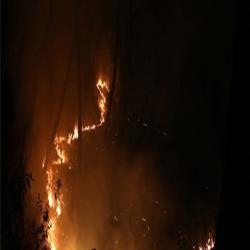fire: (96, 78, 112, 117), (45, 192, 66, 216), (52, 134, 79, 146), (56, 149, 69, 165)
